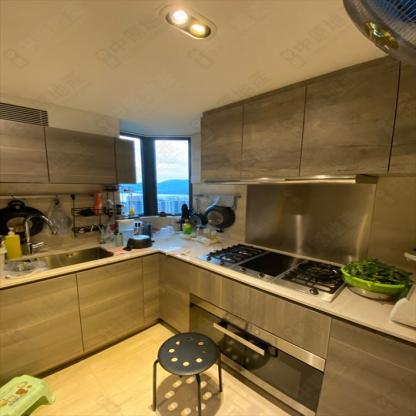Cupboard: (200, 61, 404, 178), (3, 250, 164, 382), (0, 118, 136, 184)
Exhaust Hood: (199, 172, 379, 184)
Oven: (191, 295, 326, 415)
Sink: (2, 246, 116, 279)
Stove: (198, 243, 345, 302)
